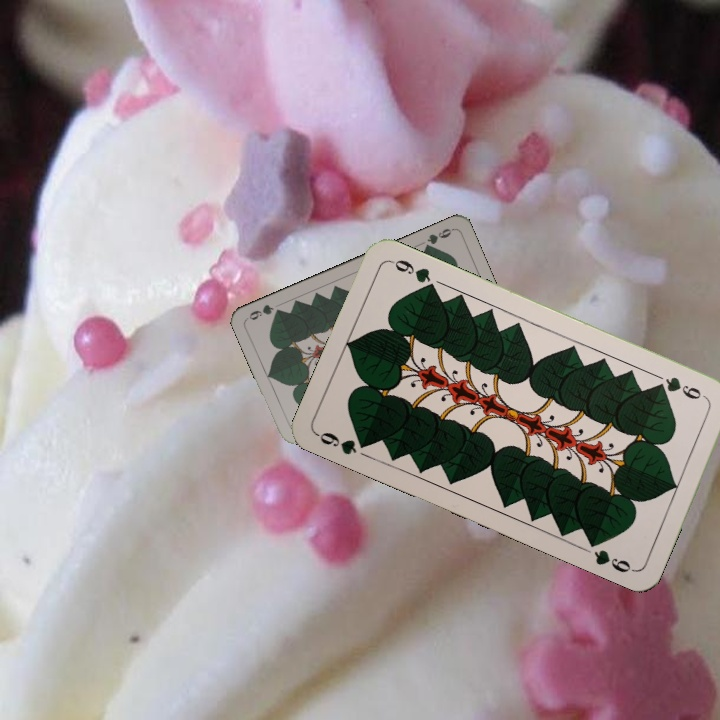G9: (313, 428, 374, 458), (650, 372, 710, 402), (420, 224, 456, 252)
